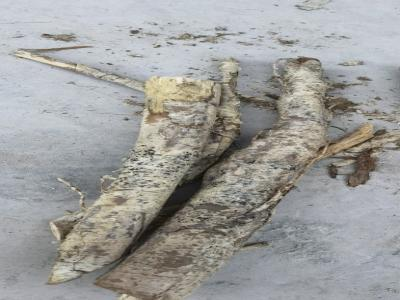Root: (17, 52, 332, 300)
